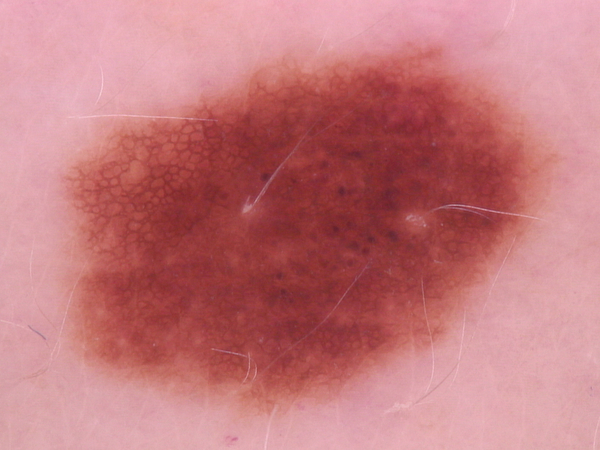Detected Lesion: (63, 43, 548, 409)
